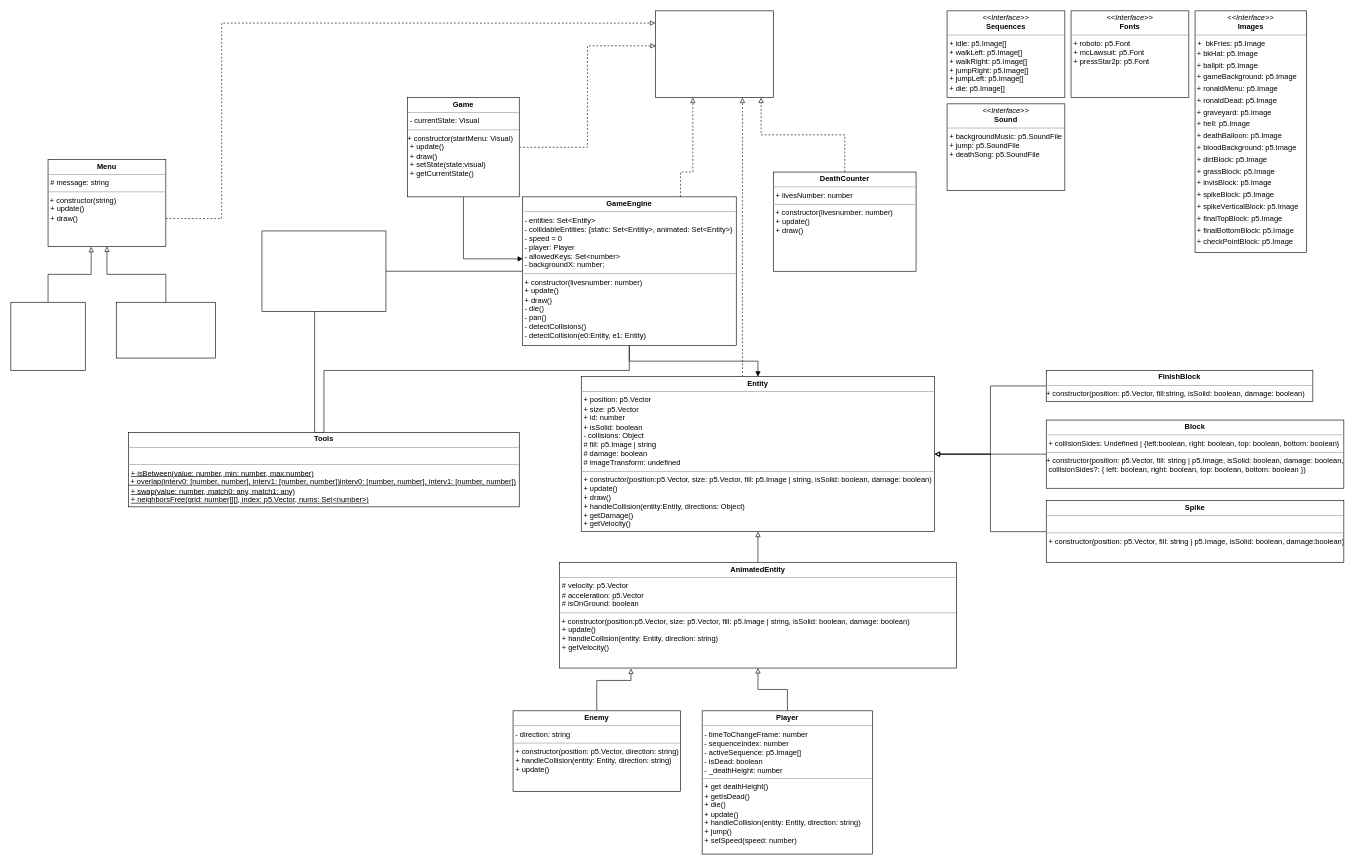
Some shapes in this 1355 by 865 pixel diagram are drawn without their labels. The shapes that lost their labels are listed below. From the top down, each one's centre as x and y in pixels, then its label:
At (x=714, y=54): "<<Interface>> Visual + field1: Type + field2: Type + update() + draw()".
At (x=323, y=271): "Generator - worldGrid: number[][] + getWorldLength() + getNextLevelEntities()".
At (x=47, y=336): "GameoverMenu - deathBaloony: 600 - deathBaloonx: 50 + draw() + update()".
At (x=165, y=330): "StartMenu + draw()".
